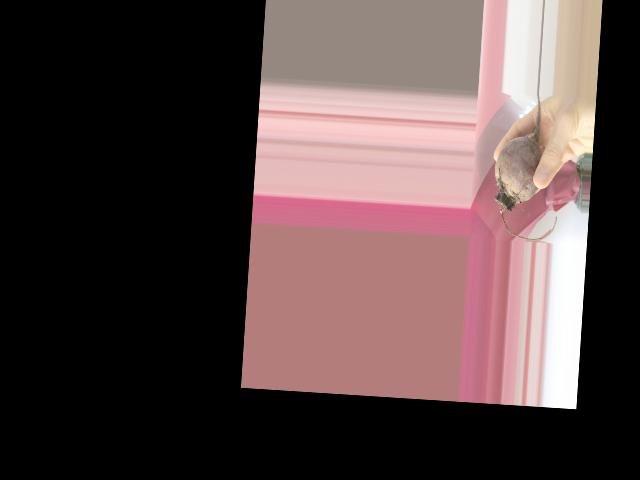beet: (490, 92, 564, 242)
